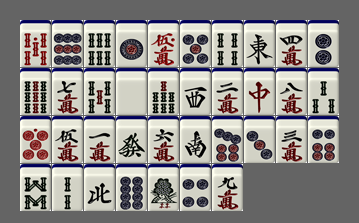0m: (148, 20, 179, 67)
0p: (20, 116, 51, 163)
0s: (20, 20, 51, 67)
1m: (84, 116, 115, 163)
1p: (116, 20, 147, 67)
1s: (148, 164, 179, 211)
1z: (244, 20, 275, 67)
2m: (212, 68, 243, 115)
2p: (308, 20, 339, 67)
2s: (52, 164, 83, 211)
2z: (180, 116, 211, 163)
3m: (276, 116, 307, 163)
3p: (244, 116, 275, 163)
3s: (308, 68, 339, 115)
3z: (180, 68, 211, 115)
4m: (276, 20, 307, 67)
4p: (180, 164, 211, 211)
4s: (212, 20, 243, 67)
4z: (84, 164, 115, 211)
5m: (52, 116, 83, 163)
5p: (180, 20, 211, 67)
5s: (84, 68, 115, 115)
5z: (116, 68, 147, 115)
6m: (148, 116, 179, 163)
6p: (308, 116, 339, 163)
6s: (84, 20, 115, 67)
6z: (116, 116, 147, 163)
7m: (52, 68, 83, 115)
7p: (212, 116, 243, 163)
7s: (148, 68, 179, 115)
7z: (244, 68, 275, 115)
8m: (276, 68, 307, 115)
8p: (116, 164, 147, 211)
8s: (20, 164, 51, 211)
9m: (212, 164, 243, 211)
9p: (52, 20, 83, 67)
9s: (20, 68, 51, 115)
